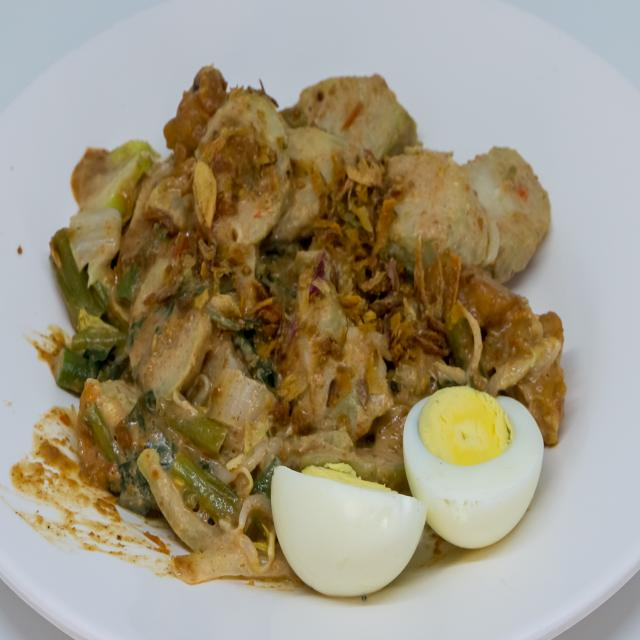Gado-Gado: (29, 53, 583, 606)
